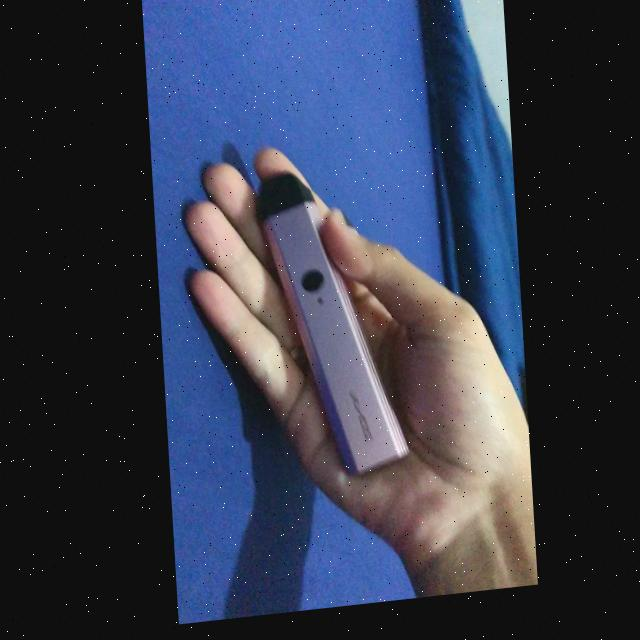vape: (251, 170, 406, 491)
